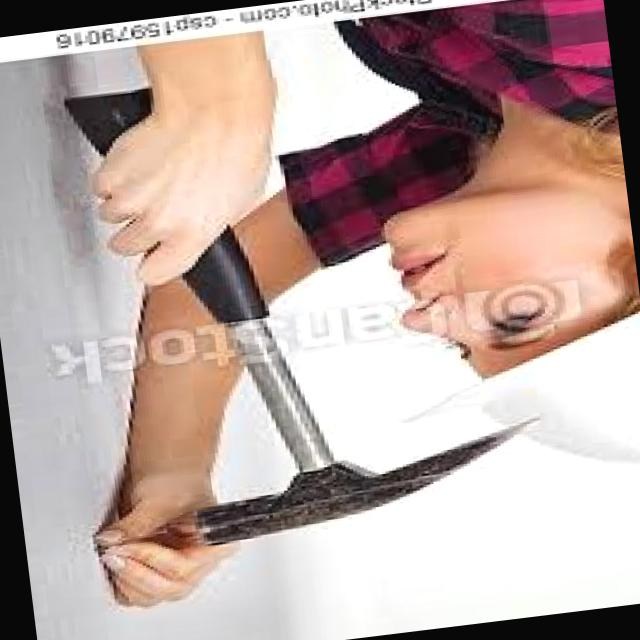hammer: (183, 230, 521, 543), (65, 90, 151, 154)
